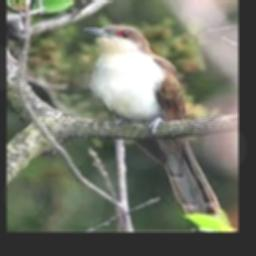Cuckoo: (81, 25, 220, 215)
